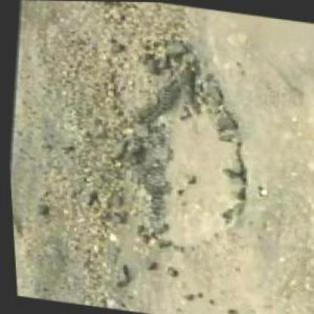Hueco: (107, 57, 263, 258)
